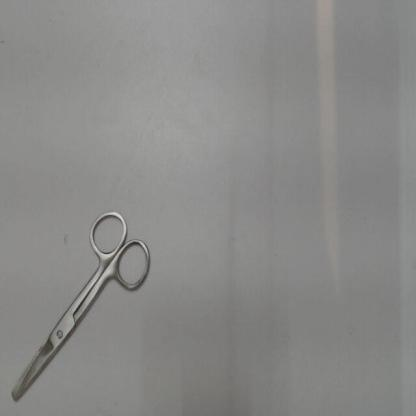Dressing Scissors: (4, 199, 161, 411)
